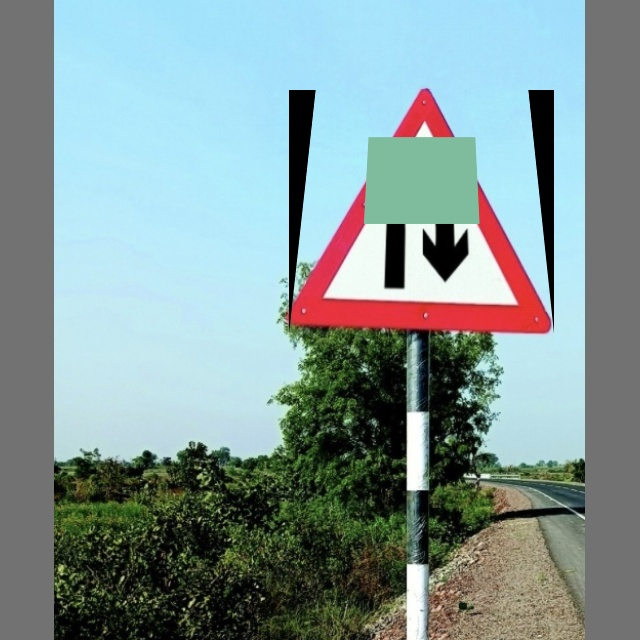Right_Hair_Pin_Bend: (289, 90, 554, 334)
